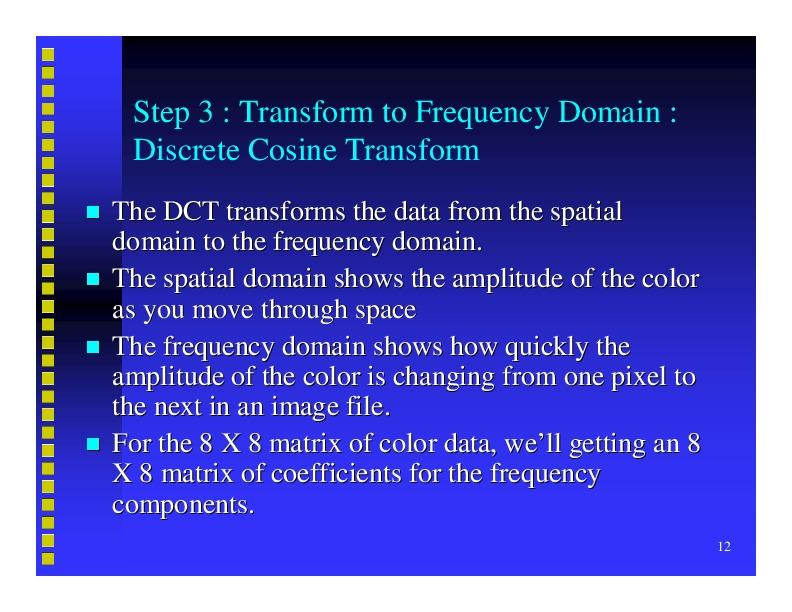paragraph: (77, 185, 705, 524)
title: (126, 87, 692, 172)
